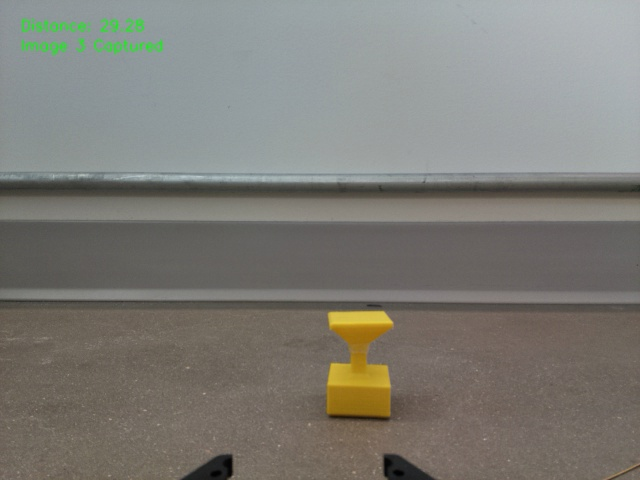block: (322, 311, 394, 418)
